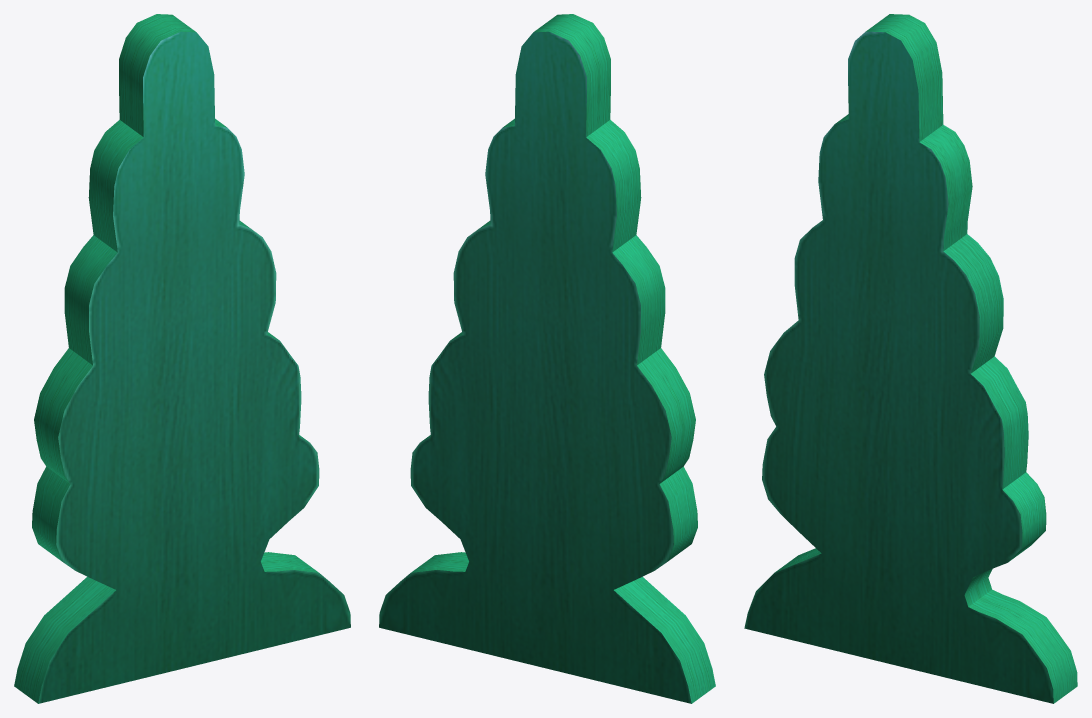
The model's file is Doll_OB_ToyTrainDec_009.FBX.
The picture shows the model from 3 angles, left to right: view 1: azimuth 30°, elevation 25°; view 2: azimuth 150°, elevation 25°; view 3: azimuth 330°, elevation 25°; orthographic projection.
Parts seen in each view (by area): view 1: Doll_OB_ToyTrainDec_009; view 2: Doll_OB_ToyTrainDec_009; view 3: Doll_OB_ToyTrainDec_009.
Boxes of the visible parts, bbox=[...] form: Doll_OB_ToyTrainDec_009: bbox=[14, 14, 350, 703]; Doll_OB_ToyTrainDec_009: bbox=[379, 14, 715, 703]; Doll_OB_ToyTrainDec_009: bbox=[744, 14, 1077, 703].
Size of the model in its own units: 9.57 by 18.64 by 1.28.
